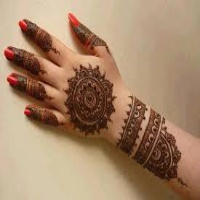ring: (3, 68, 71, 111)
